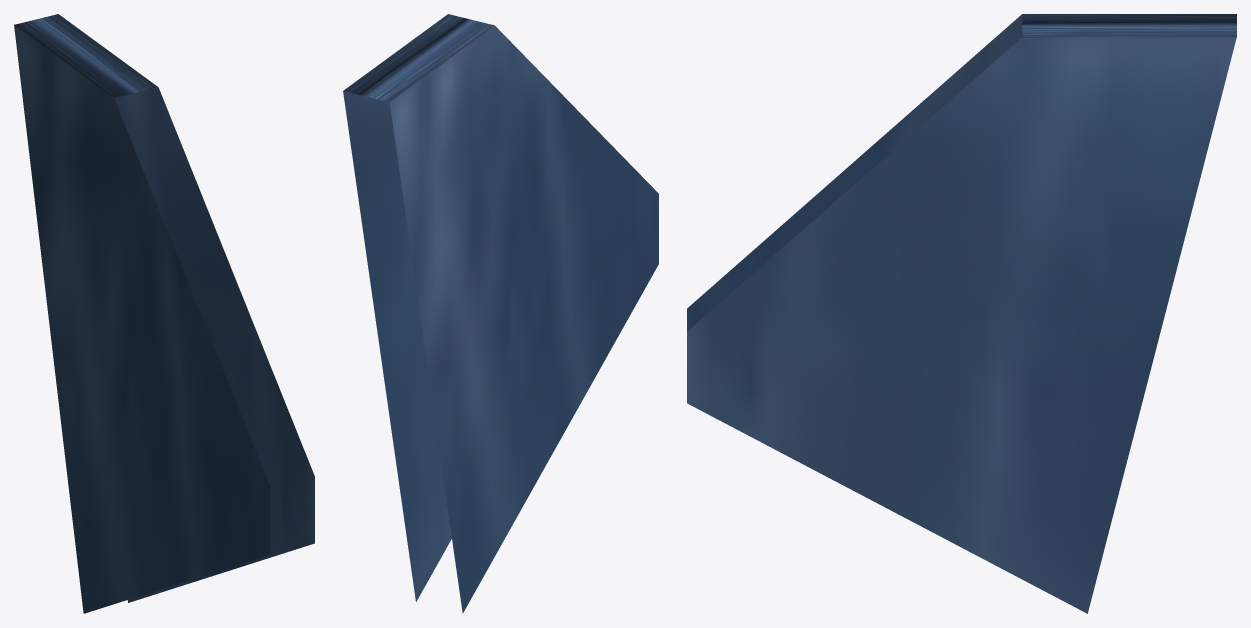
The model's file is brokenflip8.obj.
The picture shows the model from 3 angles, left to right: view 1: azimuth 30°, elevation 25°; view 2: azimuth 150°, elevation 25°; view 3: azimuth 270°, elevation 25°; orthographic projection. The views are drawn at different scales.
Visible parts, largest first — view 1: brokenflip8:initialShadingGroup brokenflip8:initialShadingGroup1; view 2: brokenflip8:initialShadingGroup brokenflip8:initialShadingGroup1; view 3: brokenflip8:initialShadingGroup brokenflip8:initialShadingGroup1.
Boxes of the visible parts, x1=… form: brokenflip8:initialShadingGroup brokenflip8:initialShadingGroup1: x1=14, y1=14, x2=314, y2=613; brokenflip8:initialShadingGroup brokenflip8:initialShadingGroup1: x1=343, y1=14, x2=658, y2=613; brokenflip8:initialShadingGroup brokenflip8:initialShadingGroup1: x1=687, y1=14, x2=1236, y2=613.
Bounding box in the file's own units: 0.4241 × 4.91 × 4.24.
1 material, 1 textured.
